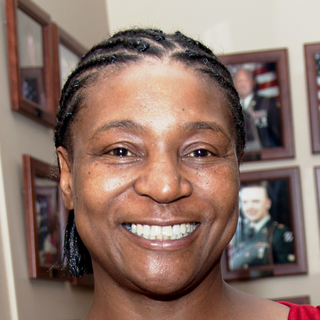eye: (95, 141, 145, 169), (176, 141, 225, 166)
